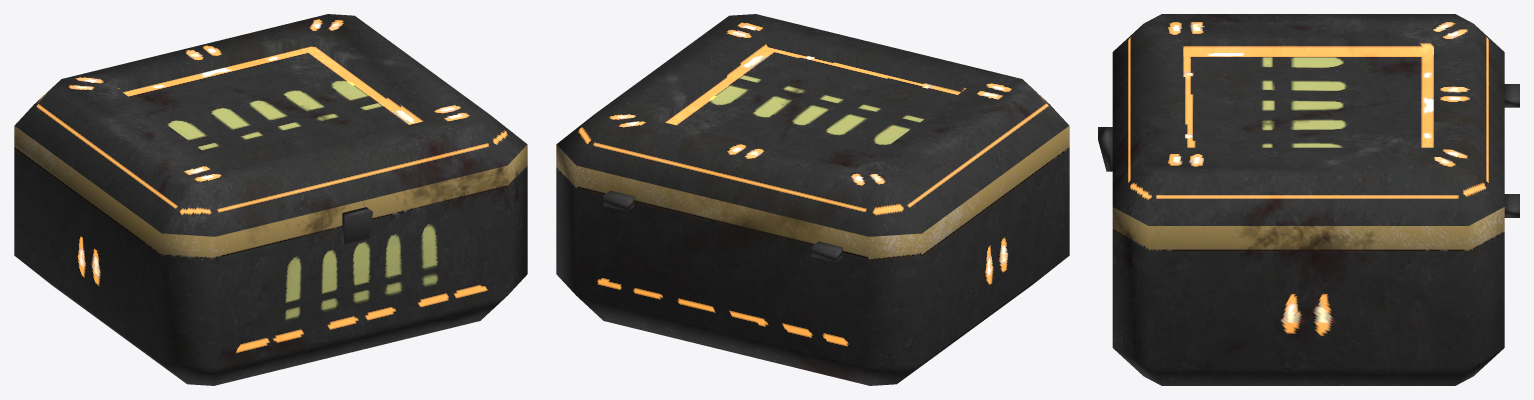
File: SM_upgrade.fbx
3 views of the same model, side by side, from view 1: azimuth 30°, elevation 25°; view 2: azimuth 150°, elevation 25°; view 3: azimuth 270°, elevation 25° (orthographic). The views are drawn at different scales.
Visible parts, largest first — view 1: lowpoly; view 2: lowpoly; view 3: lowpoly.
Part boxes in pixels (x1,y1,x2,y2): lowpoly: (14,14,527,385); lowpoly: (556,14,1069,385); lowpoly: (1098,14,1519,385).
Size of the model in its own units: 1.06 by 0.5407 by 0.9768.
